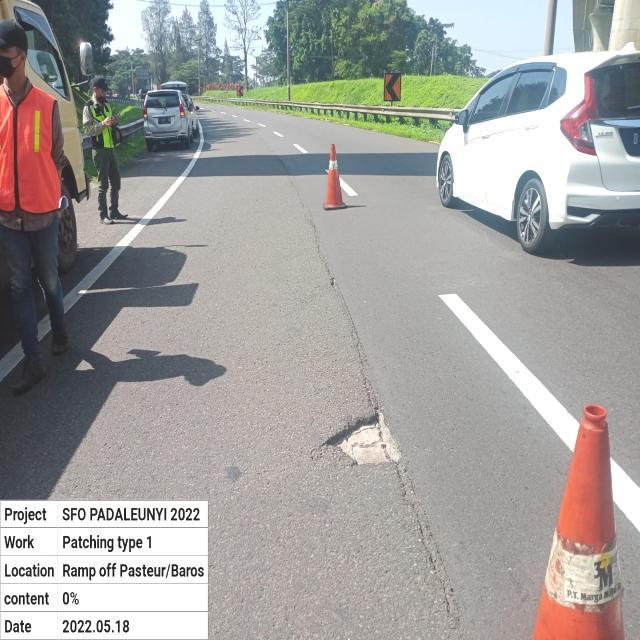Buraco: (323, 405, 406, 469)
